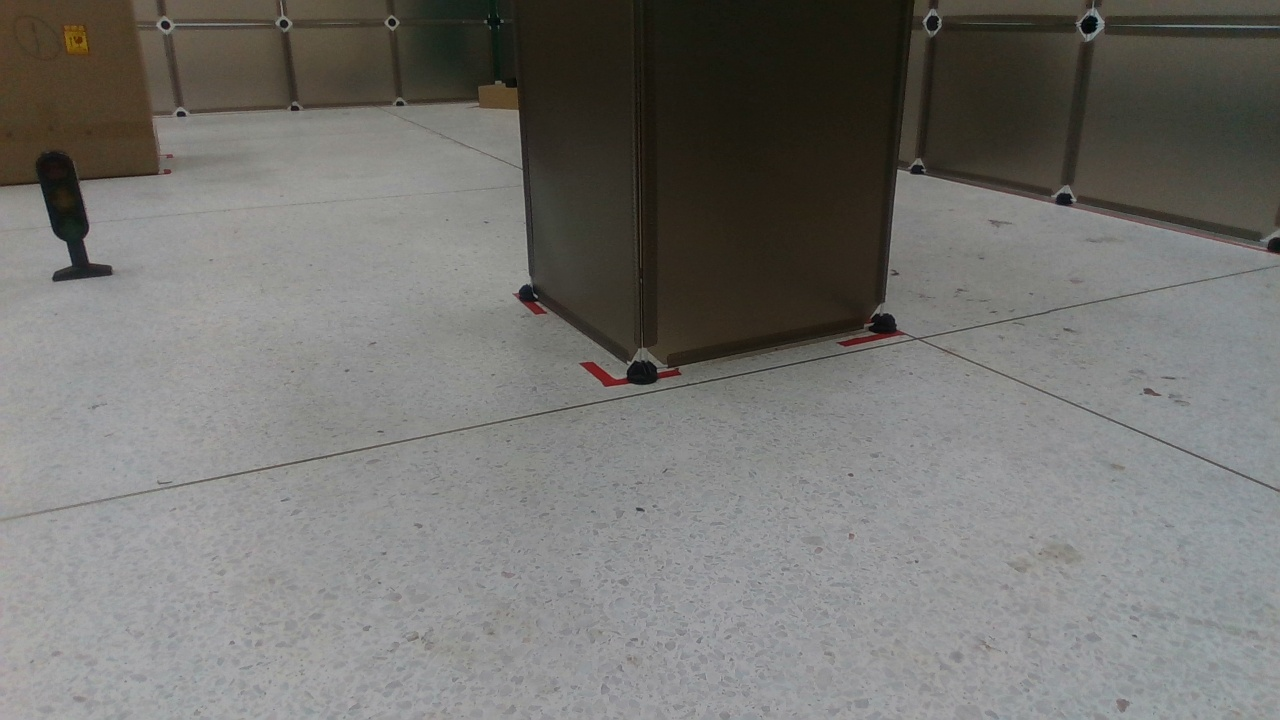Dim traffic light: (27, 157, 116, 284)
